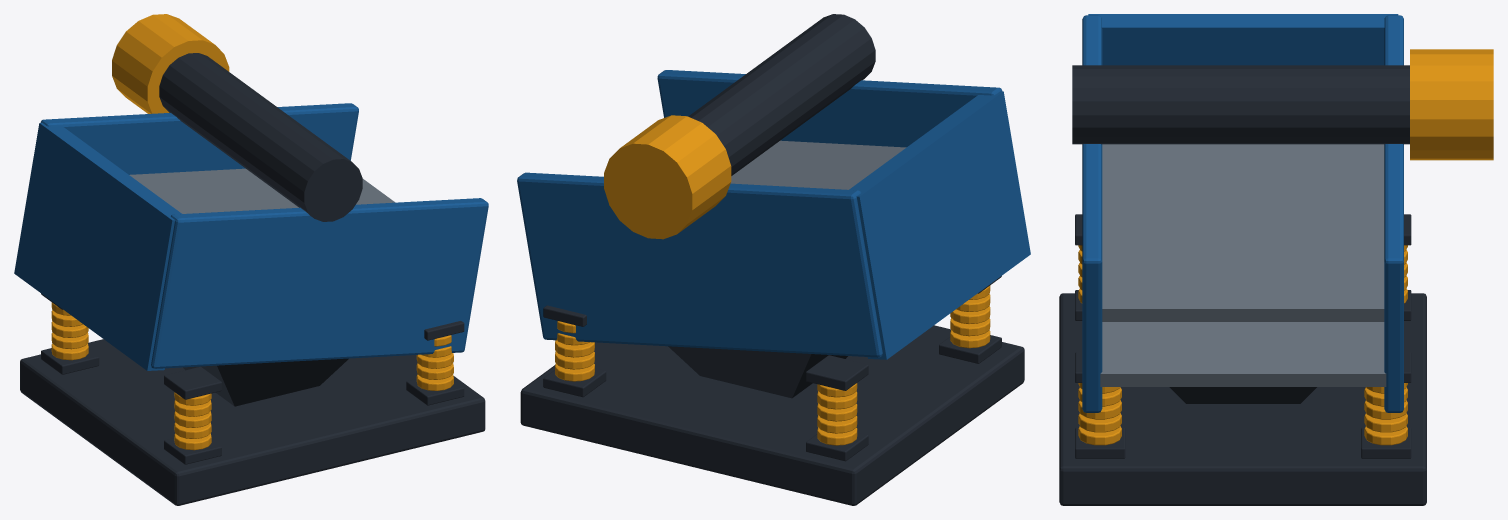
The model's file is vibrating_screen_sc102.glb.
3 renders of one model, left to right at view 1: azimuth 30°, elevation 25°; view 2: azimuth 150°, elevation 25°; view 3: azimuth 270°, elevation 25°, orthographic. The views are drawn at different scales.
Parts seen in each view (by area): view 1: SC102_SideL, SC102_Base, SC102_BackPlate, SC102_ExciterShaft, SC102_SideR, SC102_ExciterMotor, SC102_UpperDeck, SC102_UnderChute, SC102_Spring_1_TopCap, SC102_Spring_3_BaseCap, SC102_Spring_2_BaseCap, SC102_Spring_1_BaseCap; view 2: SC102_SideR, SC102_Base, SC102_BackPlate, SC102_ExciterShaft, SC102_ExciterMotor, SC102_SideL, SC102_UpperDeck, SC102_UnderChute, SC102_Spring_3_TopCap, SC102_Spring_4_BaseCap, SC102_Spring_3_BaseCap, SC102_Spring_1_BaseCap (+1 smaller); view 3: SC102_UpperDeck, SC102_Base, SC102_ExciterShaft, SC102_LowerDeck, SC102_BackPlate, SC102_ExciterMotor, SC102_SideL, SC102_SideR, SC102_UnderChute, SC102_Spring_2_BaseCap, SC102_Spring_4_BaseCap, SC102_Spring_4_Coil_1 (+3 smaller).
Boxes of the visible parts, <box> form: SC102_SideL: <box>151,198,488,368</box>; SC102_Base: <box>20,339,485,505</box>; SC102_BackPlate: <box>14,123,181,370</box>; SC102_ExciterShaft: <box>159,53,362,221</box>; SC102_SideR: <box>40,103,358,174</box>; SC102_ExciterMotor: <box>112,14,229,113</box>; SC102_UpperDeck: <box>129,168,395,213</box>; SC102_UnderChute: <box>183,358,348,406</box>; SC102_Spring_1_TopCap: <box>164,366,221,399</box>; SC102_Spring_3_BaseCap: <box>41,348,99,374</box>; SC102_Spring_2_BaseCap: <box>406,379,464,405</box>; SC102_Spring_1_BaseCap: <box>164,438,221,464</box>; SC102_SideR: <box>517,172,882,357</box>; SC102_Base: <box>520,325,1024,505</box>; SC102_BackPlate: <box>849,91,1030,359</box>; SC102_ExciterShaft: <box>688,14,875,175</box>; SC102_ExciterMotor: <box>604,115,731,239</box>; SC102_SideL: <box>657,70,1002,147</box>; SC102_UpperDeck: <box>730,140,906,189</box>; SC102_UnderChute: <box>668,346,847,398</box>; SC102_Spring_3_TopCap: <box>806,355,868,390</box>; SC102_Spring_4_BaseCap: <box>543,368,606,397</box>; SC102_Spring_3_BaseCap: <box>806,432,868,461</box>; SC102_Spring_1_BaseCap: <box>939,335,1001,363</box>; SC102_UpperDeck: <box>1102,144,1384,321</box>; SC102_Base: <box>1059,293,1426,505</box>; SC102_ExciterShaft: <box>1072,65,1409,144</box>; SC102_LowerDeck: <box>1100,322,1386,386</box>; SC102_BackPlate: <box>1088,14,1398,65</box>; SC102_ExciterMotor: <box>1410,49,1493,160</box>; SC102_SideL: <box>1082,15,1102,412</box>; SC102_SideR: <box>1384,15,1403,412</box>; SC102_UnderChute: <box>1169,387,1316,403</box>; SC102_Spring_2_BaseCap: <box>1075,427,1125,458</box>; SC102_Spring_4_BaseCap: <box>1361,427,1411,458</box>; SC102_Spring_4_Coil_1: <box>1364,413,1407,432</box>.
Bounding box in the file's own units: 2.3 × 2.05 × 2.18.
